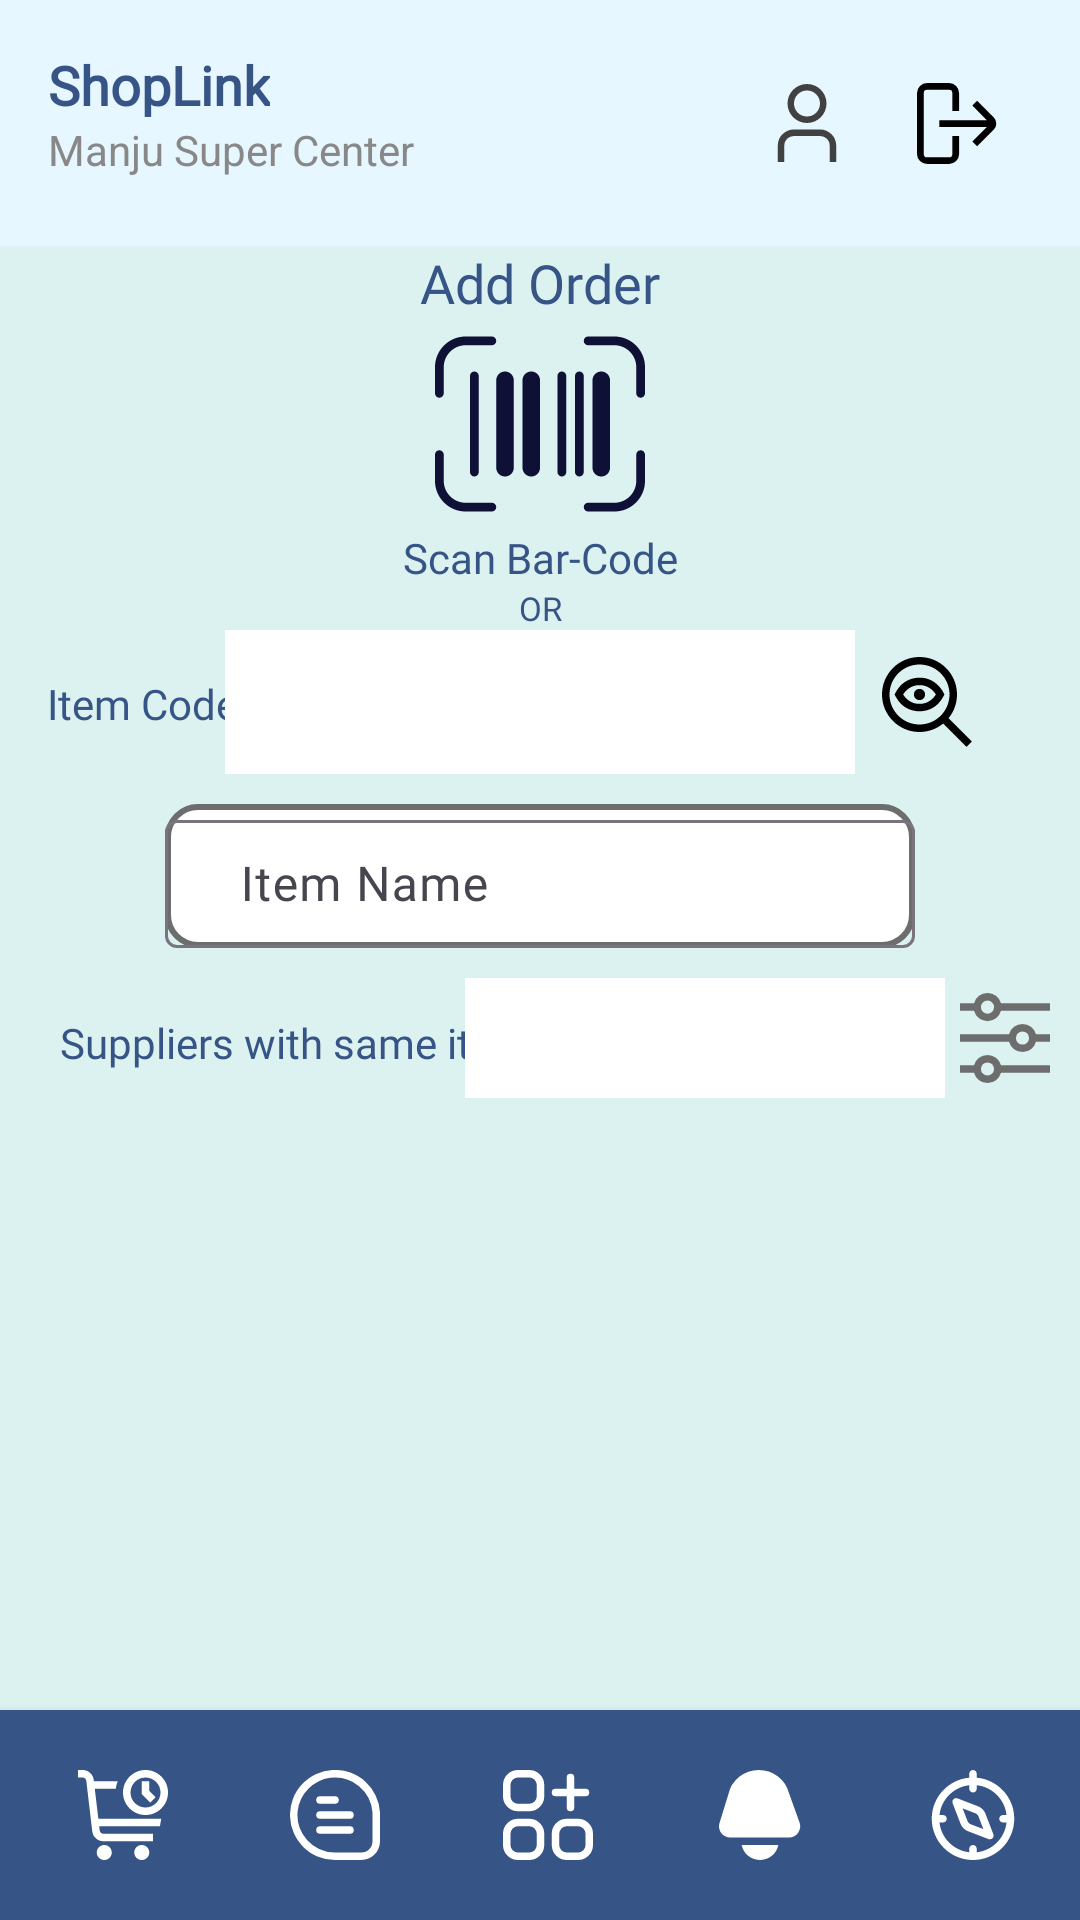

Icons on this 1080px×1920px Android screen, each with its box as (x1, y1, x2, y2):
filtericon: (960, 993, 1050, 1083)
Image button to explore new products: (931, 1770, 1015, 1860)
Image button to main order making menu: (503, 1770, 593, 1860)
Image button to Message: (290, 1770, 380, 1860)
Image button to orders: (78, 1770, 168, 1860)
Notifications: (719, 1770, 801, 1860)
searchicon: (882, 657, 972, 747)
usericon: (777, 84, 837, 162)
